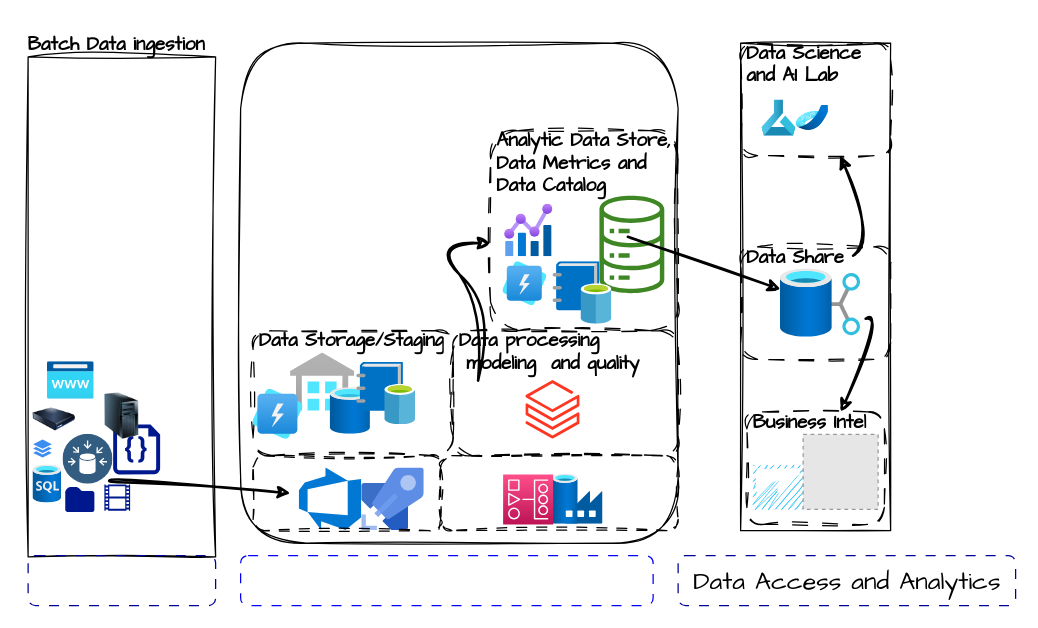
This 1038x628 diagram has some shape labels left out. Grey dashed boxes stand in for pictures. Each missing label, with the centre of its shape:
CII/CD: [346,492]
Data Processing/Transformation: [446,580]
Data Sources: [121,580]
Workflow Orchestration: [558,492]
